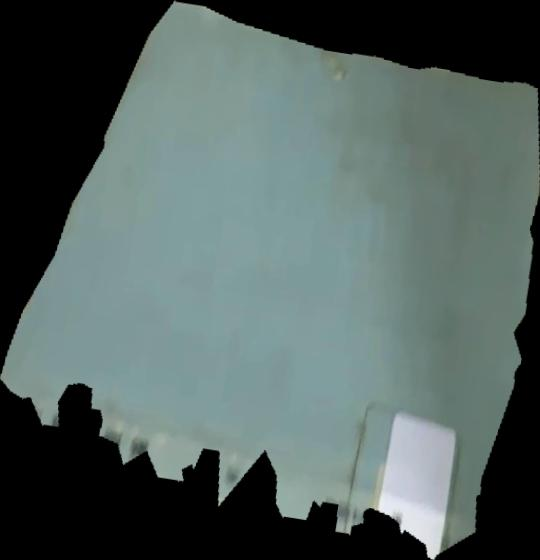flat: (1, 1, 540, 560)
